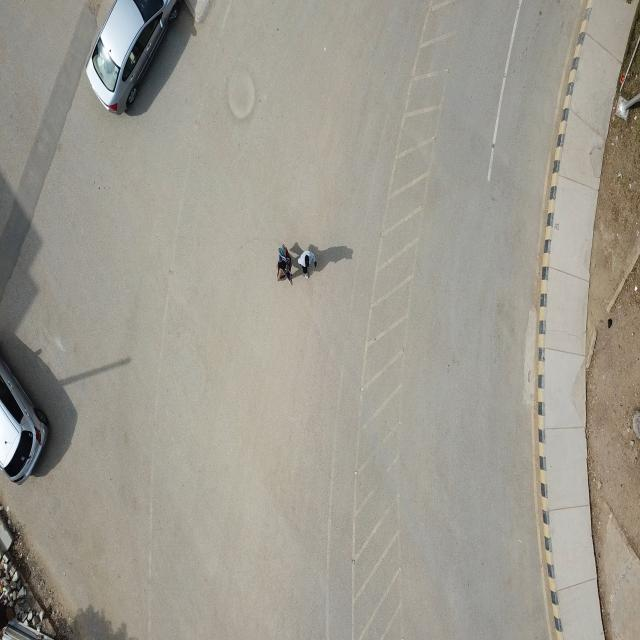Manusia: (277, 243, 294, 286), (298, 246, 317, 279)
